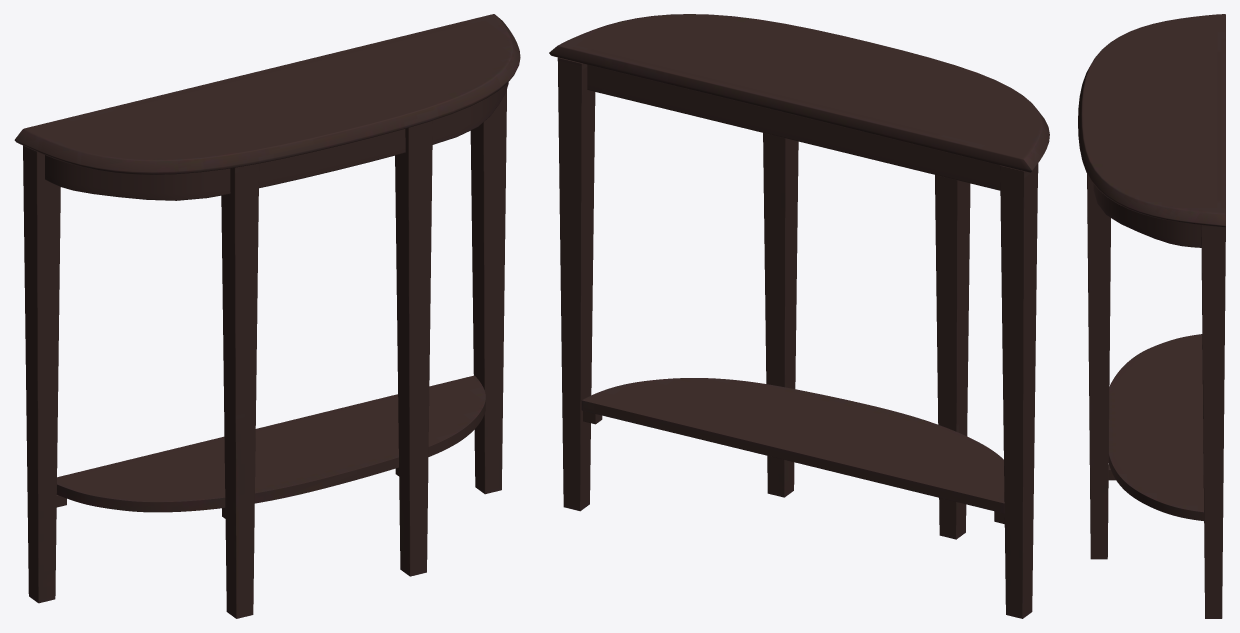
Rendered from abo-B07DMJN8H3.glb.
3 views of the same model, side by side, from view 1: azimuth 30°, elevation 25°; view 2: azimuth 150°, elevation 25°; view 3: azimuth 270°, elevation 25° (orthographic). The views are drawn at different scales.
Bounding box in the file's own units: 0.909 × 0.831 × 0.274.
Materials: 1 (1 with a texture image).
